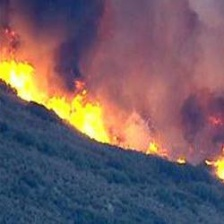fire: (1, 49, 224, 184)
smoke: (62, 4, 224, 100)
